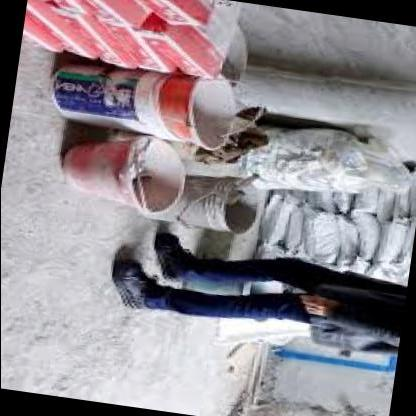safety-shoe: (87, 248, 164, 323), (135, 223, 208, 284)
